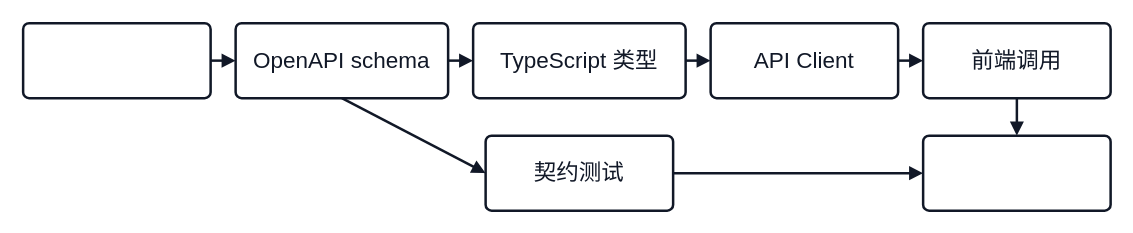
The diagram is 1133 pixels wide and 233 high, and some of its shapes have lost their labels. Each missing label, with the centre of its shape:
Pydantic 模型: the point at 116,60
集成验证: the point at 1016,172
